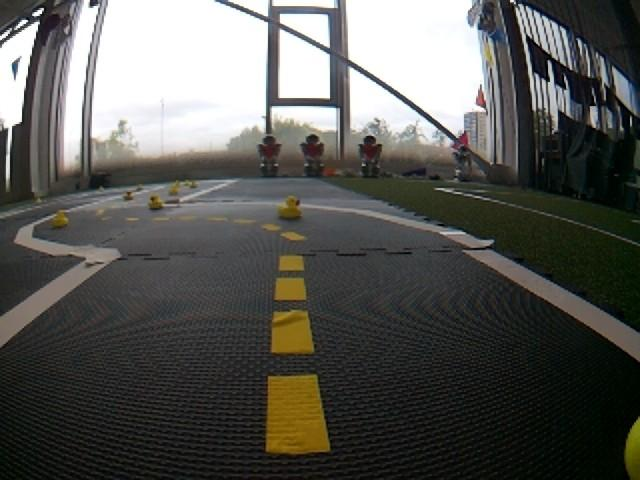Duckies: (278, 197, 305, 218), (50, 210, 69, 226), (148, 193, 163, 208), (124, 190, 133, 201), (169, 184, 178, 195), (36, 197, 43, 204), (190, 181, 198, 186), (99, 185, 104, 192), (137, 184, 143, 188)
